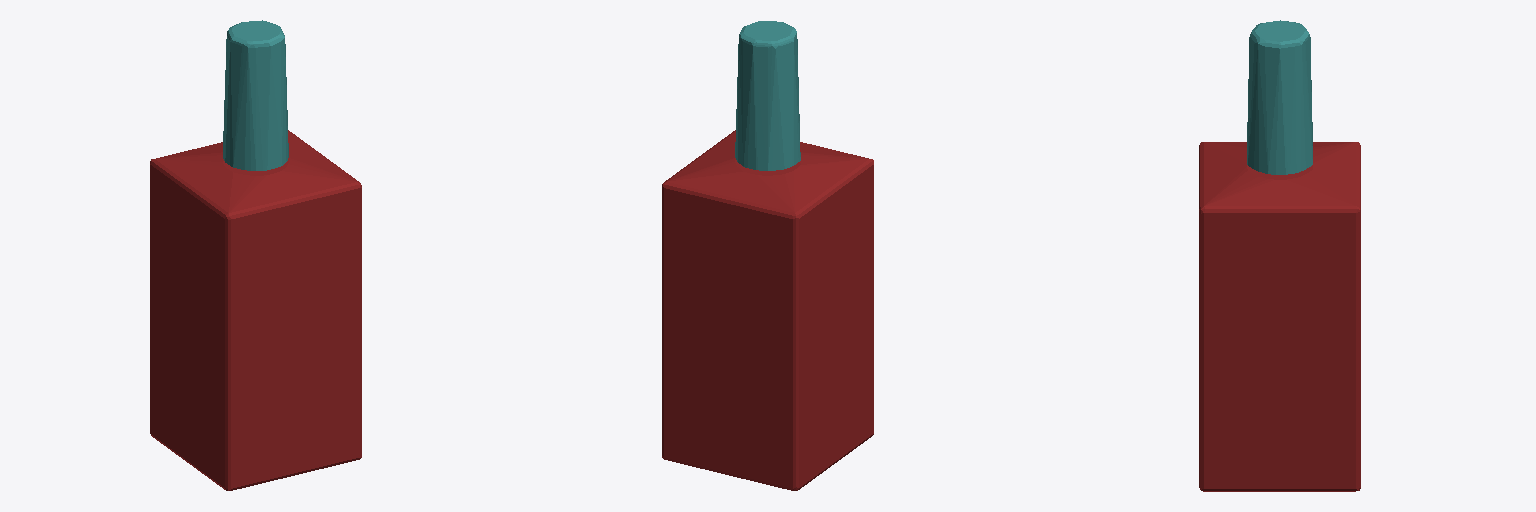
The robot description file, URDF, robot "root":
<robot name="root">
  <link name="bottle_body">
    <inertial>
      <origin xyz="0 0 0" rpy="0 0 0"/>
    </inertial>
    <mass value="1.00E-02"/>
    <visual>
      <origin xyz="0 0 0" rpy="0 0 0"/>
      <geometry>
        <mesh filename="core-bottle-cbe88d4a56535ba64e23e9314af9ae57-coacd_convex_piece_1.obj" scale="1.0000E-01 1.0000E-01 1.0000E-01"/>
      </geometry>
      <material name="">
        <color rgba="6.00E-01 2.00E-01 2.00E-01 1"/>
      </material>
    </visual>
    <collision>
      <origin xyz="0 0 0" rpy="0 0 0"/>
      <geometry>
        <mesh filename="core-bottle-cbe88d4a56535ba64e23e9314af9ae57-coacd_convex_piece_1.obj" scale="1.0000E-01 1.0000E-01 1.0000E-01"/>
      </geometry>
    </collision>
  </link>
  <link name="bottle_cap">
    <origin xyz="0 0 0.002" rpy="0 0 0"/>
    <mass value="1.00E-02"/>
    <visual>
      <origin xyz="0 0 0.002" rpy="0 0 0"/>
      <geometry>
        <mesh filename="core-bottle-cbe88d4a56535ba64e23e9314af9ae57-coacd_convex_piece_0.obj" scale="1.0000E-01 1.0000E-01 1.0000E-01"/>
      </geometry>
      <material name="">
        <color rgba="3.00E-01 6.00E-01 6.00E-01 1"/>
      </material>
    </visual>
    <collision>
      <origin xyz="0 0 0.002" rpy="0 0 0"/>
      <geometry>
        <mesh filename="core-bottle-cbe88d4a56535ba64e23e9314af9ae57-coacd_convex_piece_0.obj" scale="1.0000E-01 1.0000E-01 1.0000E-01"/>
      </geometry>
    </collision>
  </link>
  <joint name="bottle_cap_joint" type="revolute">
    <origin xyz="0 0 0" rpy="0 0 0"/>
    <parent link="bottle_body"/>
    <child link="bottle_cap"/>
    <axis xyz="0 0 1"/>
    <limit lower="0.00" upper="6.28"/>
    <dynamics damping="0.05"/>
  </joint>
</robot>

--- Facts derived from the render (not from the file) ---
3 views of the same robot in one strip: view 1: azimuth 30°, elevation 25°; view 2: azimuth 150°, elevation 25°; view 3: azimuth 270°, elevation 25° (orthographic).
Robot: root — 2 links, 1 joints (1 revolute); root link bottle_body; default pose: every joint at zero.
Visible links, largest first — view 1: bottle_body, bottle_cap; view 2: bottle_body, bottle_cap; view 3: bottle_body, bottle_cap.
Link boxes in pixels (bbox=[...]): bottle_body: bbox=[150, 130, 361, 490]; bottle_cap: bbox=[223, 20, 288, 170]; bottle_body: bbox=[662, 130, 873, 490]; bottle_cap: bbox=[735, 21, 800, 170]; bottle_body: bbox=[1199, 142, 1360, 491]; bottle_cap: bbox=[1247, 20, 1312, 174].
Size in the robot's own frame: 0.0617 by 0.0617 by 0.1795 metres.
Meshes: 2 distinct files referenced, 2 mesh visuals loaded (2 OBJ).